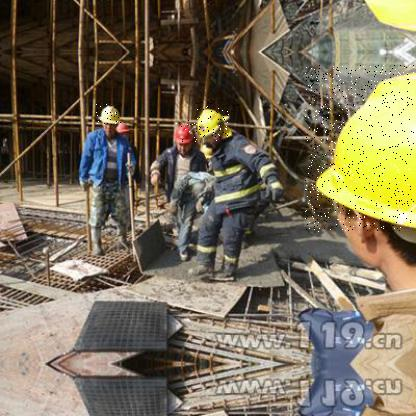safetyhelmet: (305, 65, 415, 233), (196, 102, 230, 142), (175, 118, 199, 143), (96, 104, 122, 126)
